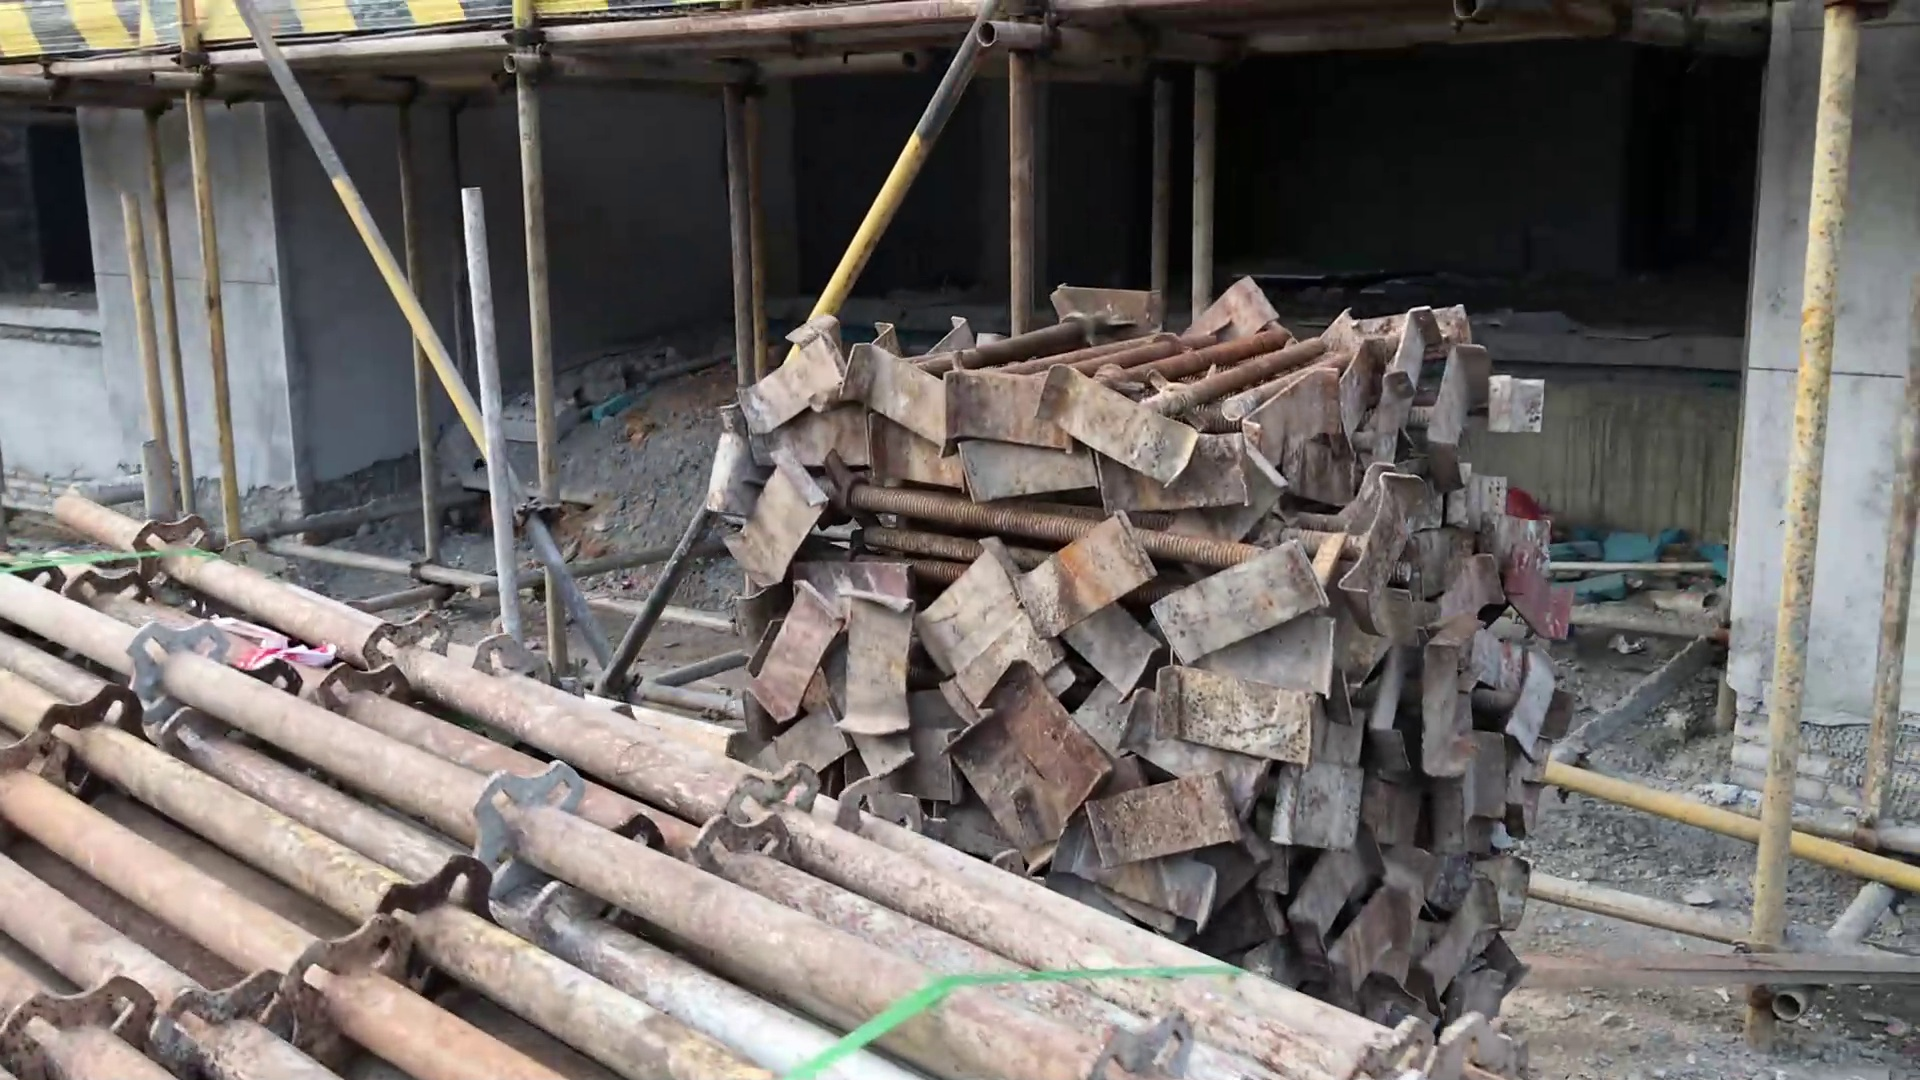scaffold: (1, 471, 1493, 1080)
